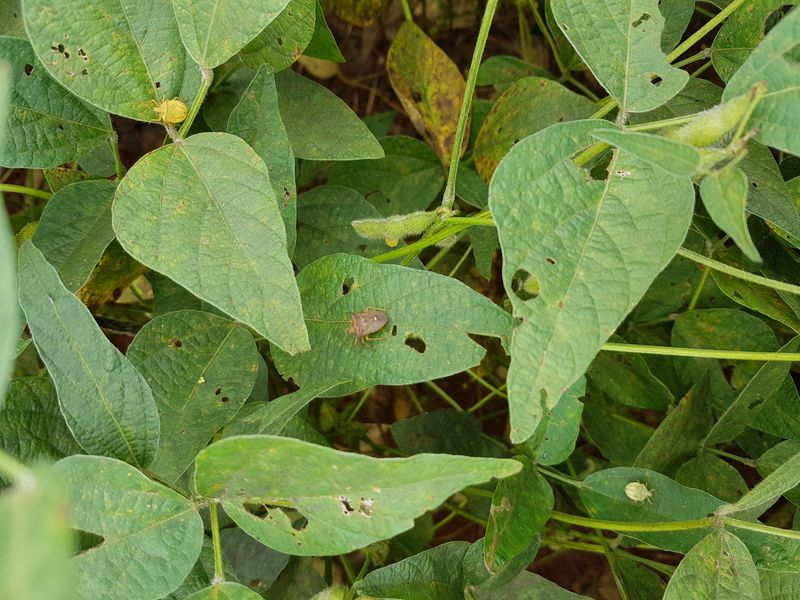Euschistus_heros_adulto: (339, 301, 400, 351)
Euschistus_heros_ninfa: (143, 90, 193, 134), (619, 474, 662, 512)
